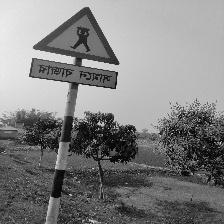Market-in-front: (30, 6, 121, 91)
